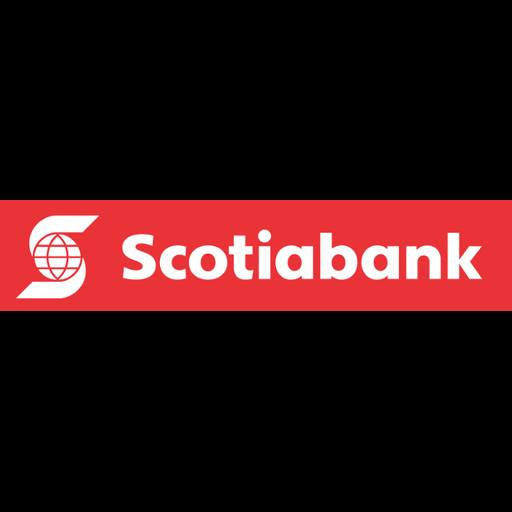Scotiabank: (0, 200, 512, 311)
